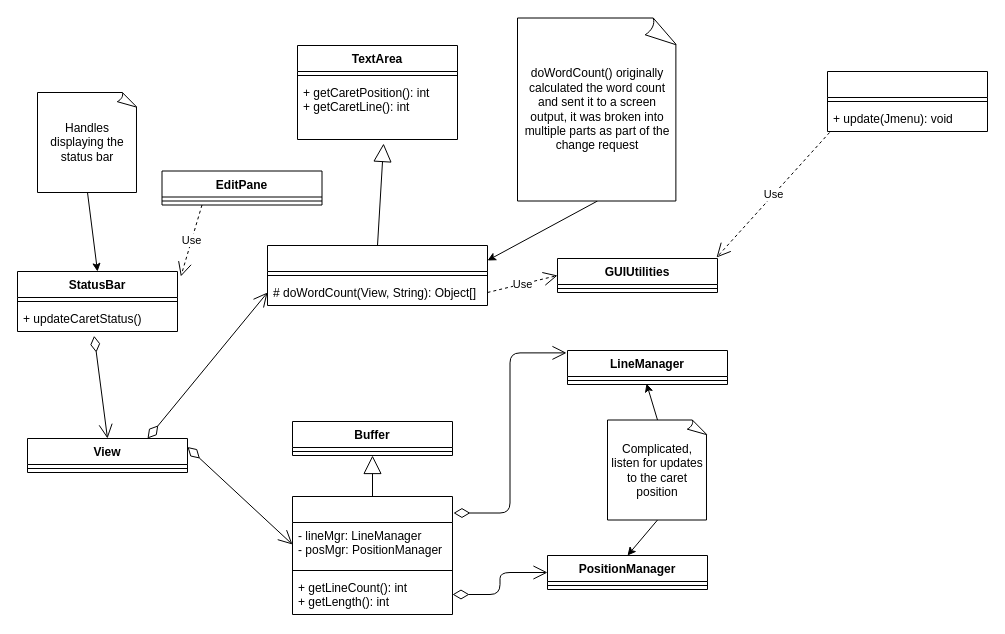
Some shapes in this 1005 by 634 pixel diagram are drawn without their labels. Here are the shapes that lost their labels. From the top down, the box of each, then its label:
(826, 70, 988, 132): RecentFilesProvider
(266, 244, 488, 306): JEditTextArea
(292, 496, 452, 614): JEditBuffer
